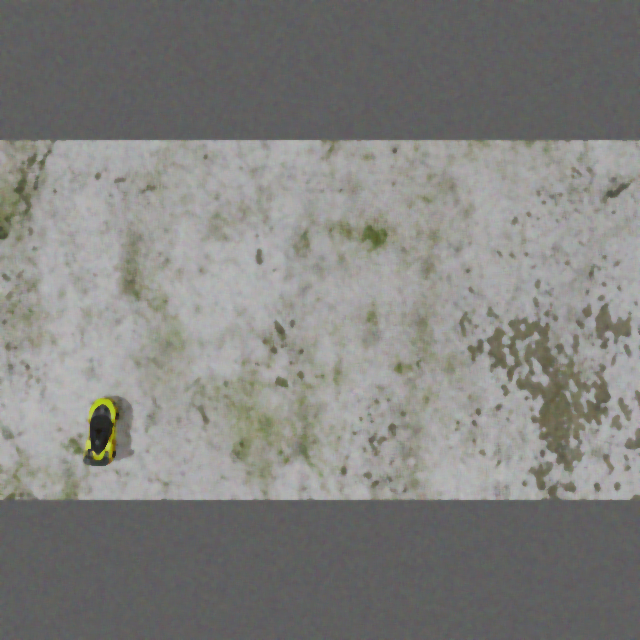car: (80, 395, 122, 467)
